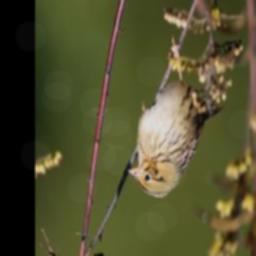Sparrow: (126, 37, 225, 200)
